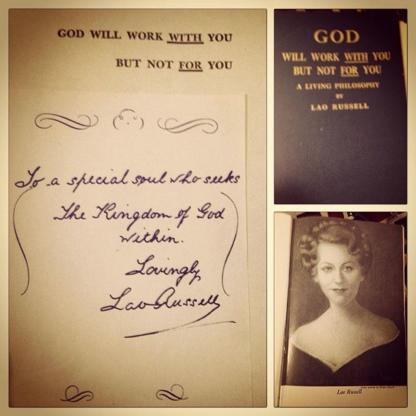book: (271, 210, 413, 408), (272, 8, 408, 203)
